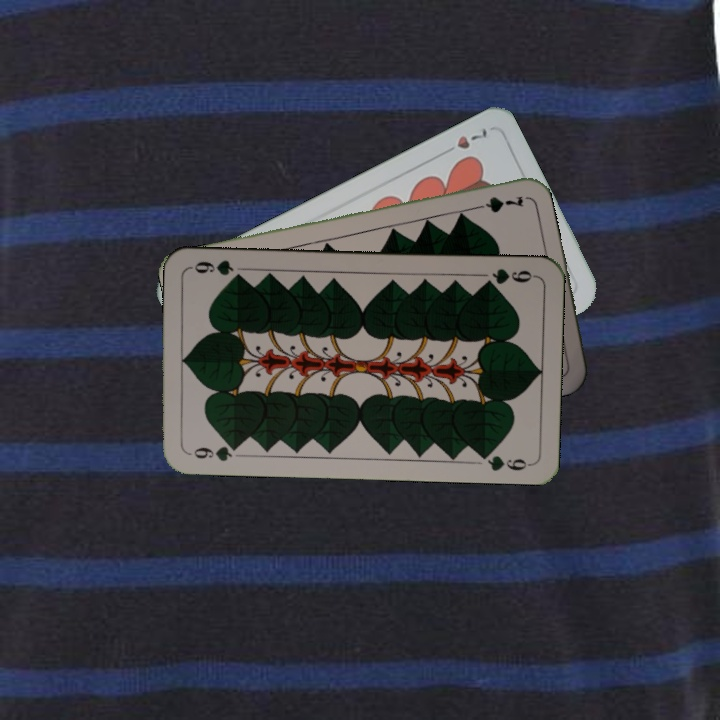G7: (466, 191, 525, 213)
G9: (479, 264, 538, 289), (184, 440, 243, 464)
H7: (437, 124, 490, 159)
